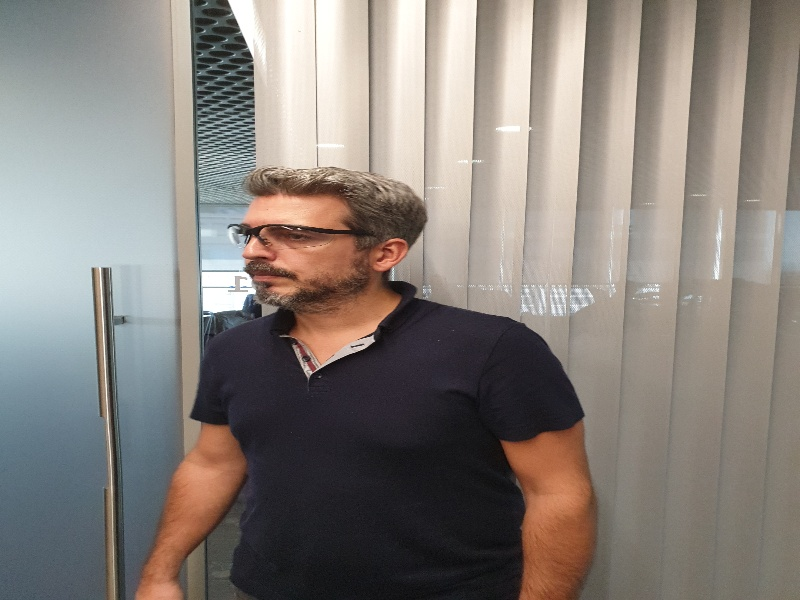Gozluk: (223, 221, 365, 253)
